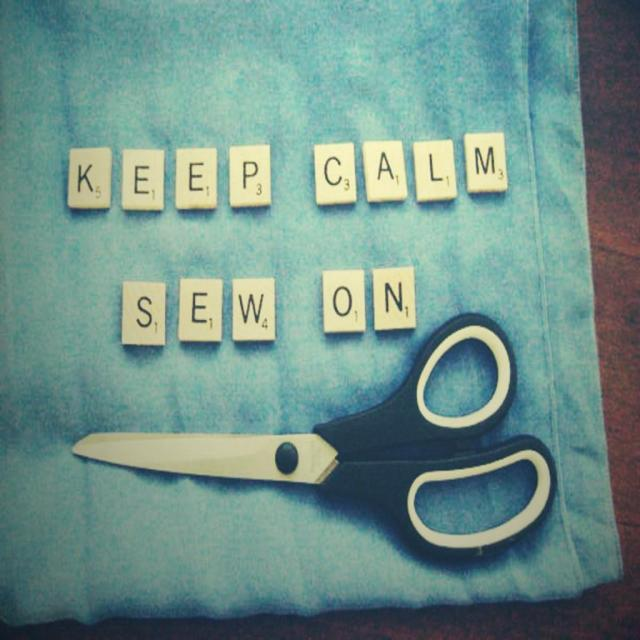scissor: (74, 310, 558, 560)
